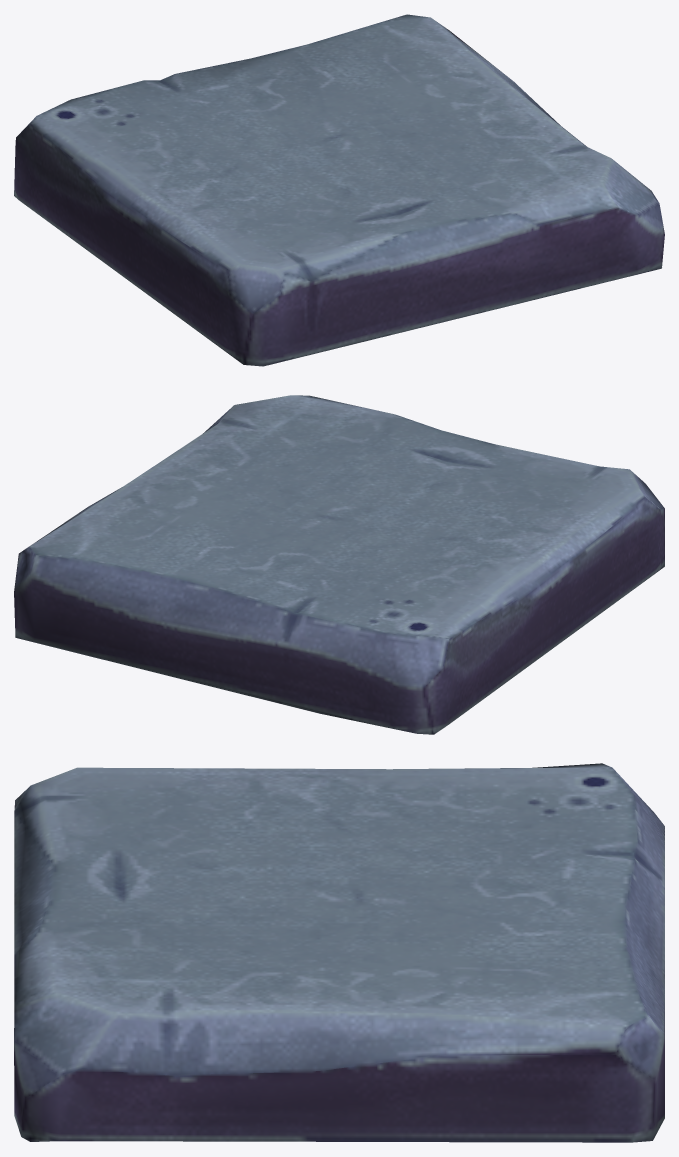
The model's file is floorTile2.glb.
The picture shows the model from 3 angles, top to bottom: view 1: azimuth 30°, elevation 25°; view 2: azimuth 150°, elevation 25°; view 3: azimuth 270°, elevation 25°; orthographic projection. The views are drawn at different scales.
Parts seen in each view (by area): view 1: Tile3_03; view 2: Tile3_03; view 3: Tile3_03.
Part boxes in pixels (x1,y1,x2,y2): Tile3_03: (14,14,664,366); Tile3_03: (14,395,664,734); Tile3_03: (14,763,664,1142).
Bounding box in the file's own units: 0.2858 × 0.0563 × 0.2854.
Materials: 1 (1 with a texture image).
